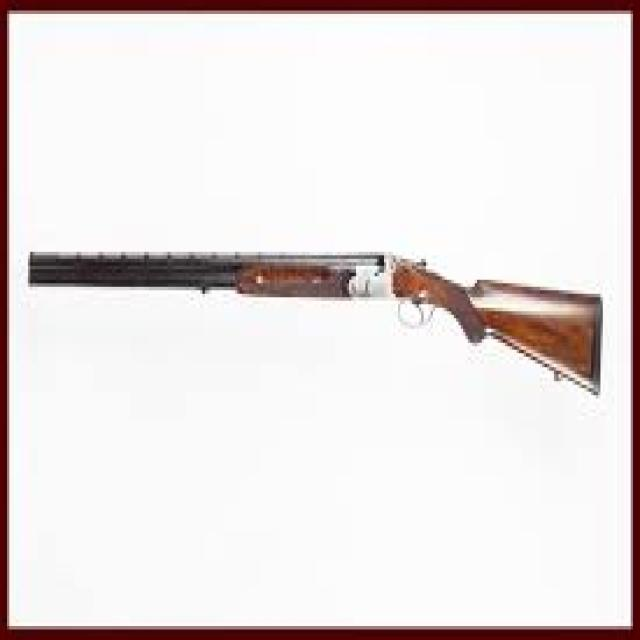rifle: (21, 231, 612, 411)
